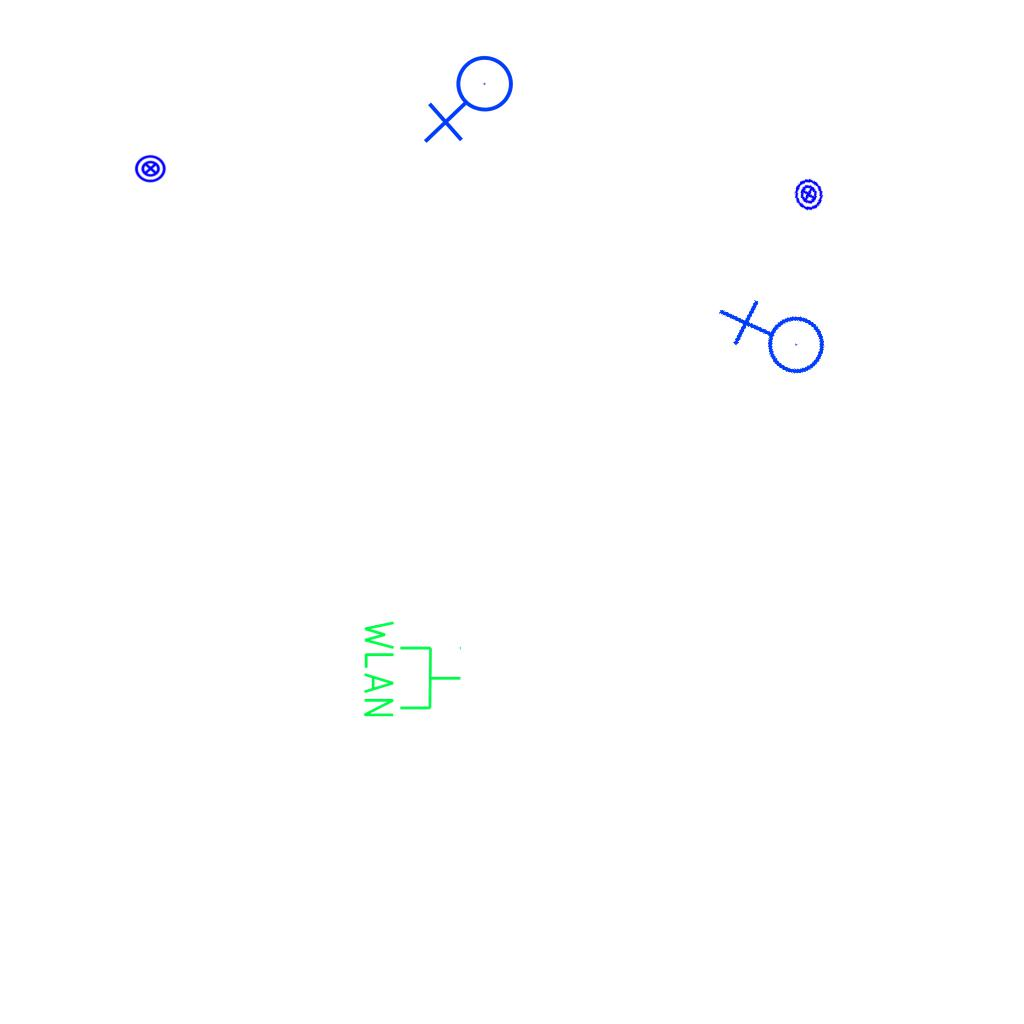Elektroanschluss_allgemein_230V_Geraeteanschlussdose_230V: (713, 276, 838, 404), (423, 54, 522, 148)
Taster_beleuchtet: (788, 174, 829, 215), (134, 152, 167, 185)
WLAN: (360, 616, 464, 721)
